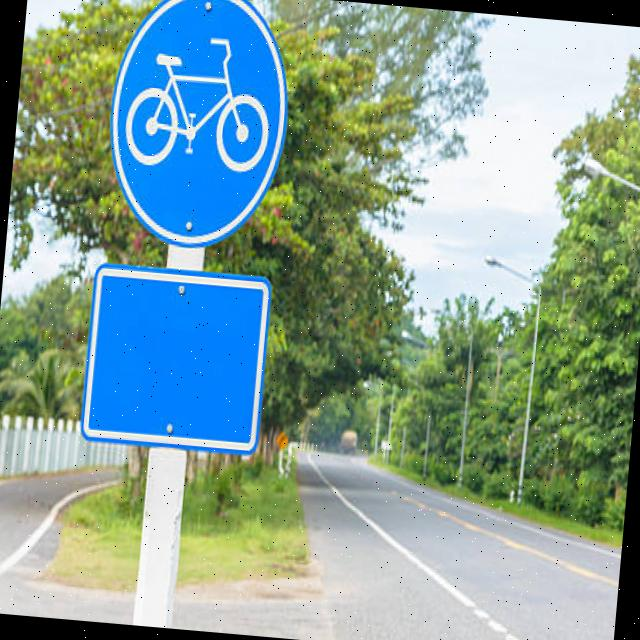bicycle: (92, 0, 293, 254)
